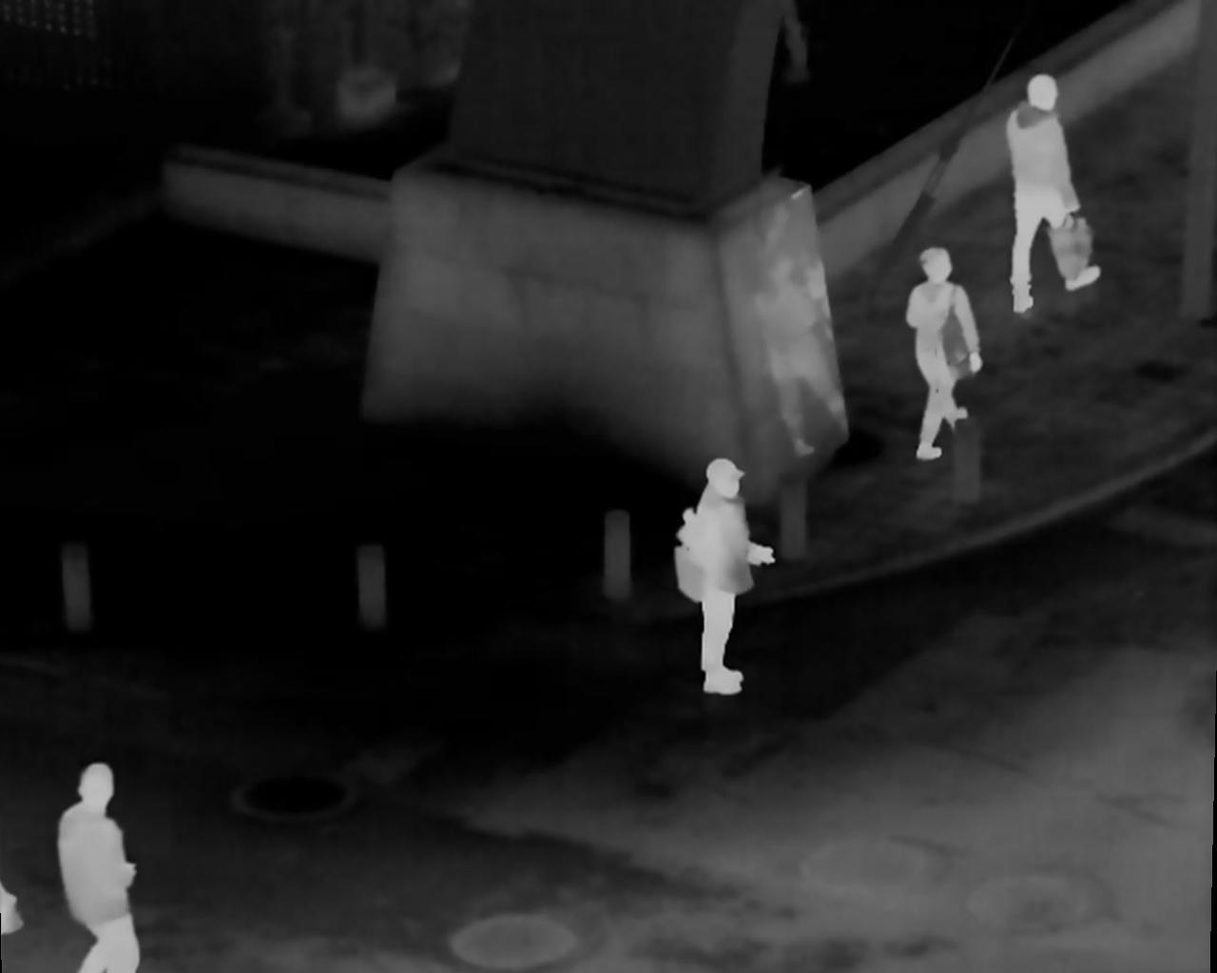person: (1008, 67, 1104, 317), (680, 454, 777, 694), (900, 257, 988, 468), (57, 765, 145, 963)
